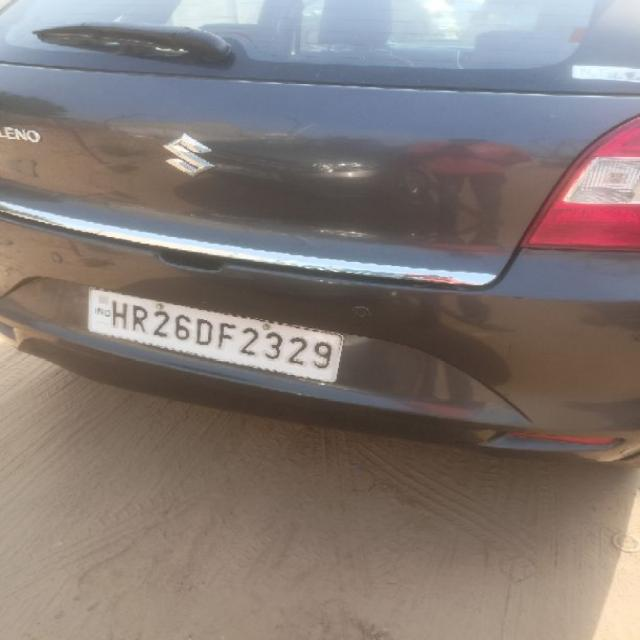license_plate: (85, 286, 345, 384)
